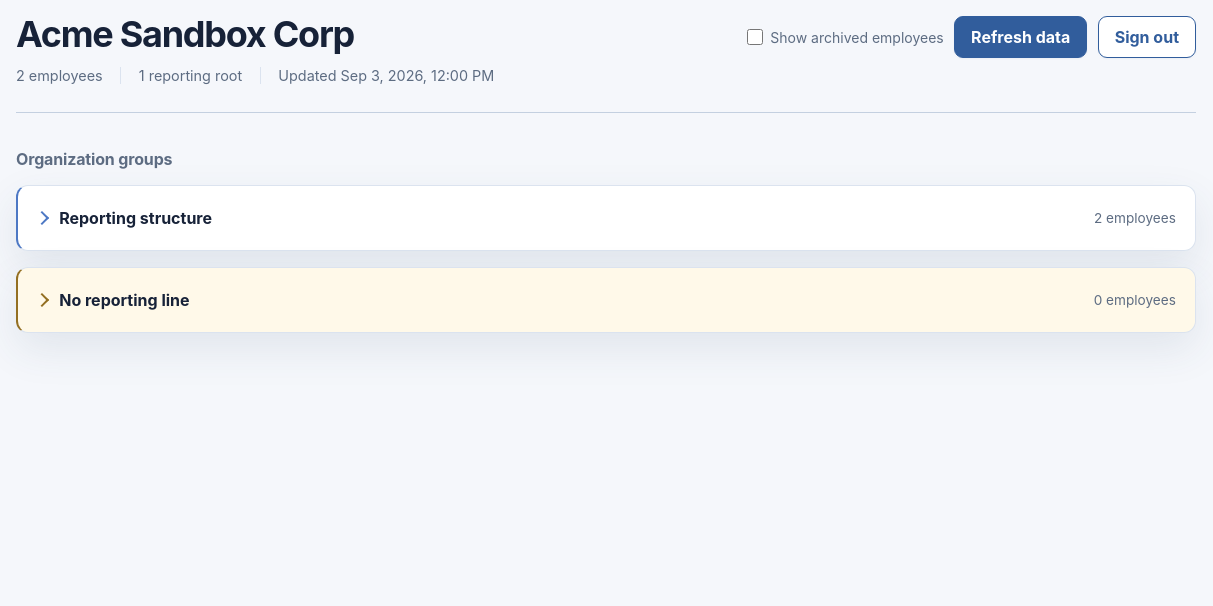
Scenario: OrgChart › uses the entire parent card as its disclosure summary
This screenshot has width=1213, height=606.
Click the text "Reporting structure" at point(136, 218), box [59, 208, 212, 228]
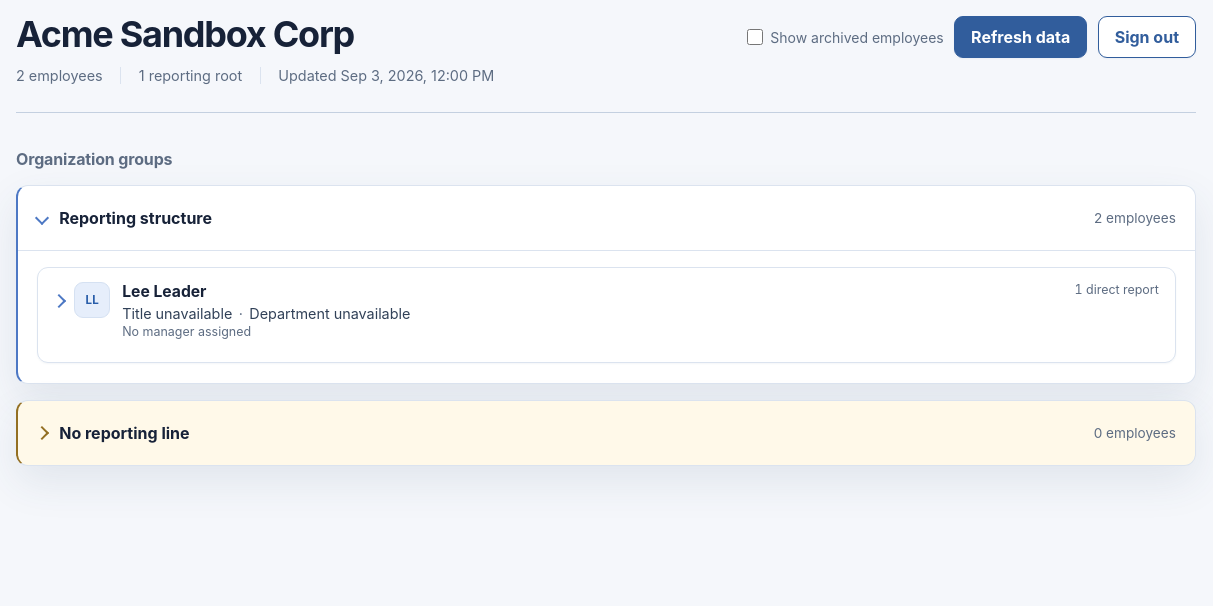
expect the text "Riley Report" is not shown: met
expect the text "1 direct report" is shown: met, box [1075, 282, 1159, 302]
Click the heading "Lee Leader" at point(92, 300), box [37, 267, 1176, 363]
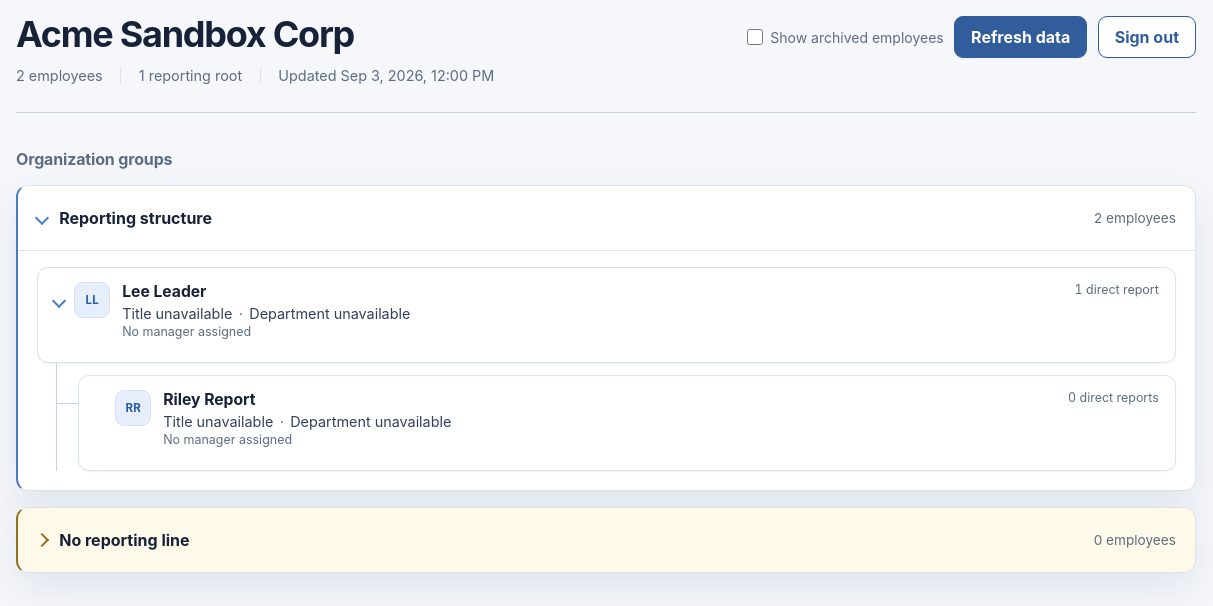
expect the heading "Riley Report" is shown: met, box [163, 390, 256, 409]
